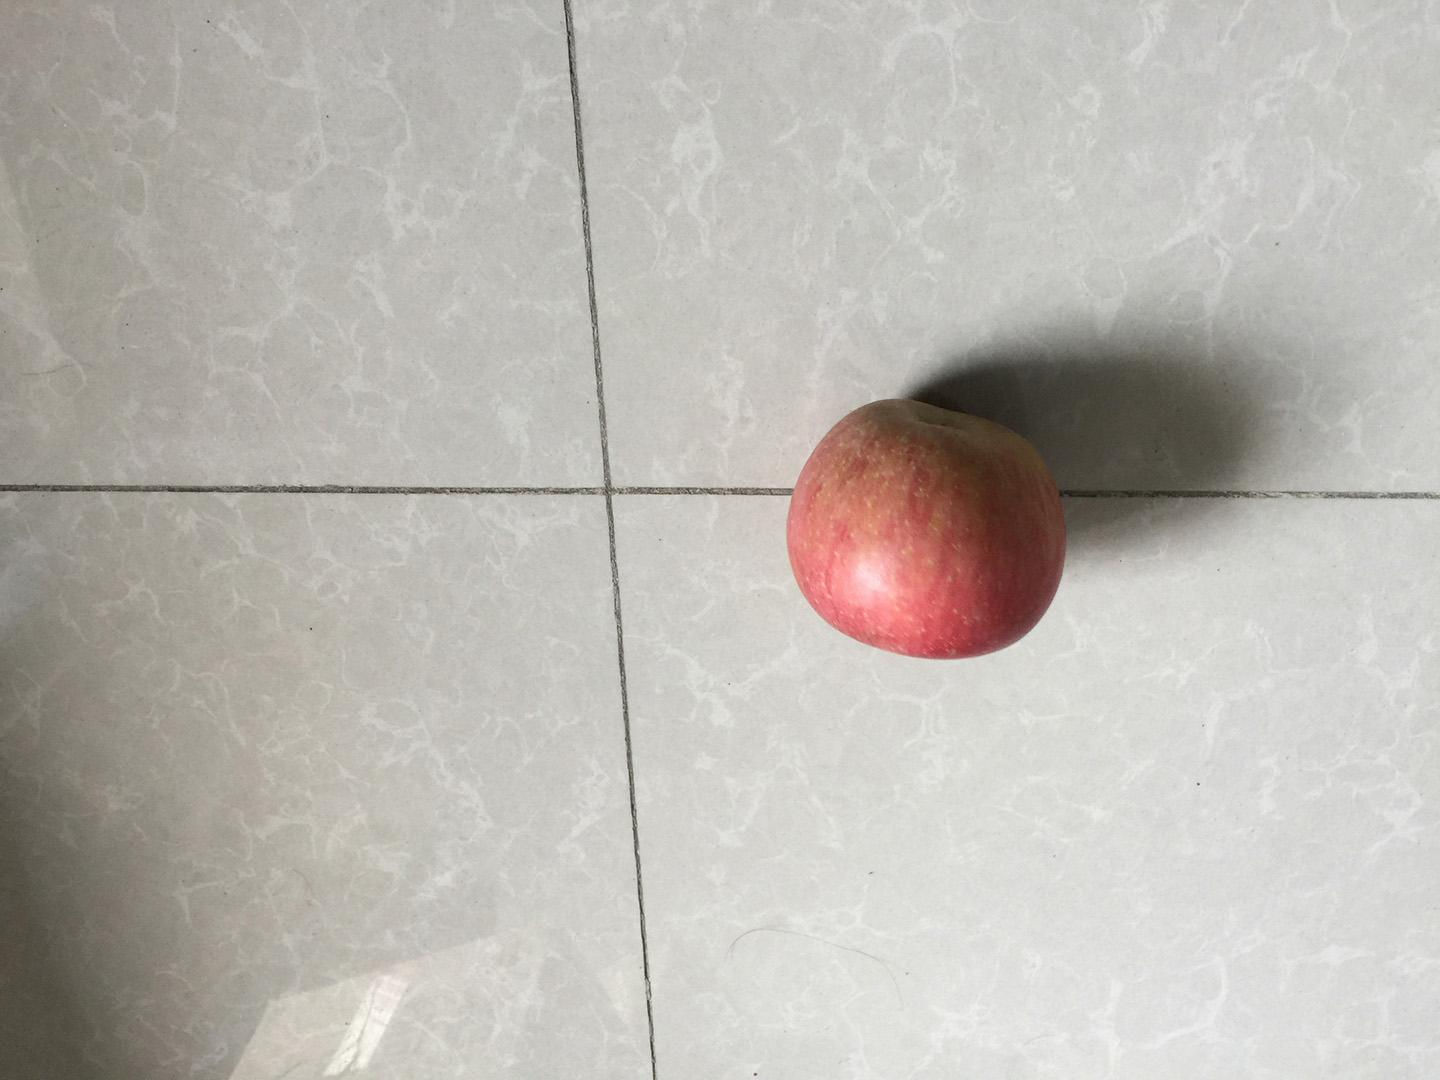apple: (777, 393, 1076, 665)
